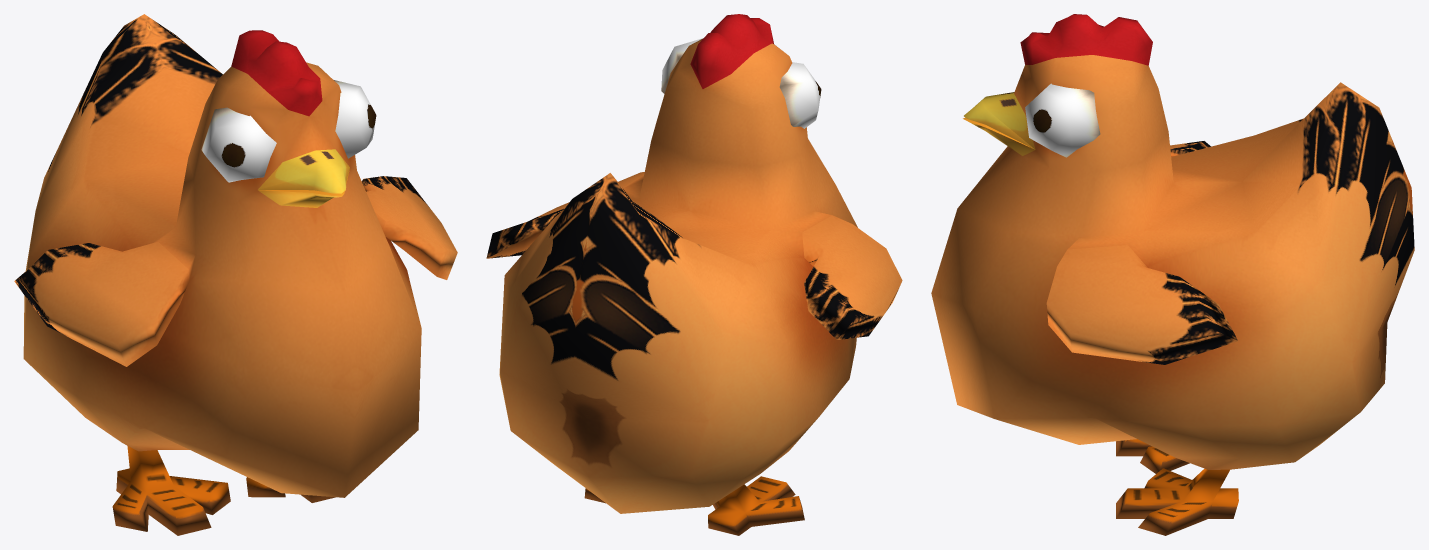
File: farm_hen.fbx
The picture shows the model from 3 angles, left to right: view 1: azimuth 30°, elevation 25°; view 2: azimuth 150°, elevation 25°; view 3: azimuth 270°, elevation 25°; orthographic projection. The views are drawn at different scales.
Parts seen in each view (by area): view 1: farm:polySurface5; view 2: farm:polySurface5; view 3: farm:polySurface5.
Part boxes in pixels (bbox=[...]): farm:polySurface5: bbox=[14, 14, 457, 535]; farm:polySurface5: bbox=[486, 14, 902, 535]; farm:polySurface5: bbox=[931, 14, 1414, 535].
Bounding box in the file's own units: 0.5318 × 0.625 × 0.5891.
